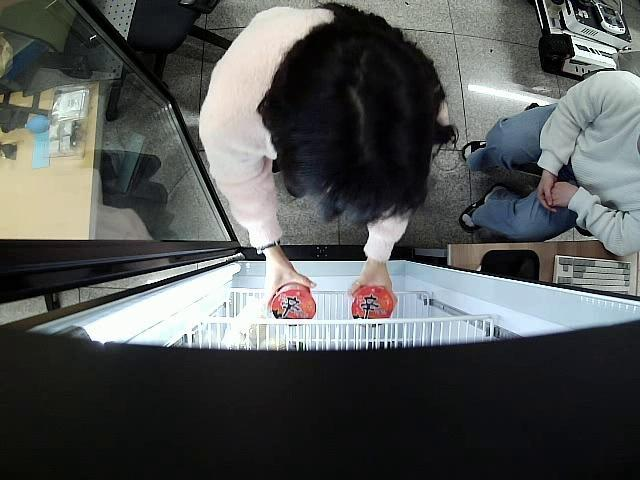02_shinRamen_S: (270, 282, 316, 328), (352, 285, 393, 326)
